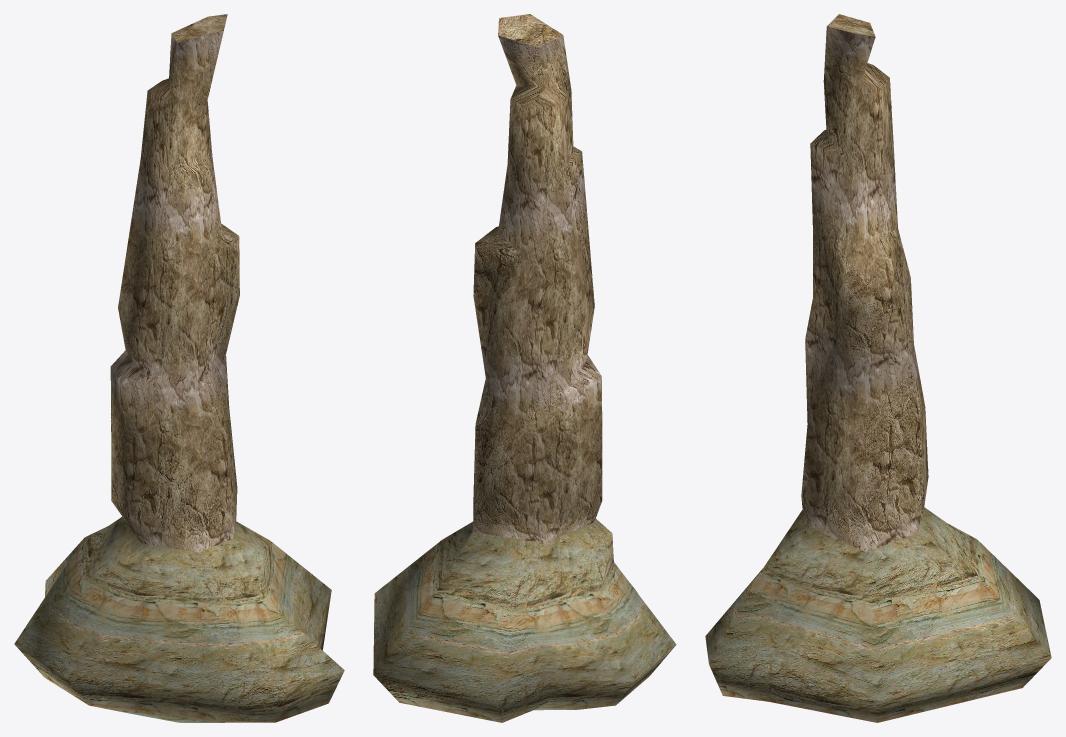
File: dsrt_endr_column_a1_l1.fbx
3 views of the same model, side by side, from view 1: azimuth 30°, elevation 25°; view 2: azimuth 150°, elevation 25°; view 3: azimuth 270°, elevation 25° (orthographic). The views are drawn at different scales.
Visible parts, largest first — view 1: mesh_node; view 2: mesh_node; view 3: mesh_node.
Boxes of the visible parts, box(x1,y1,x2,y2) form: mesh_node: box(14, 14, 344, 722); mesh_node: box(373, 14, 676, 722); mesh_node: box(705, 14, 1051, 722).
Size of the model in its own units: 11.26 by 24.87 by 11.57.
Materials: 2 (2 with a texture image).
